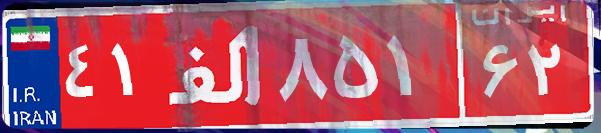1: (385, 28, 445, 110), (110, 28, 158, 105)
2: (525, 38, 570, 115)
4: (57, 26, 110, 107)
5: (330, 28, 385, 110)
6: (475, 38, 525, 113)
8: (273, 28, 330, 110)
الف: (158, 15, 273, 115)
